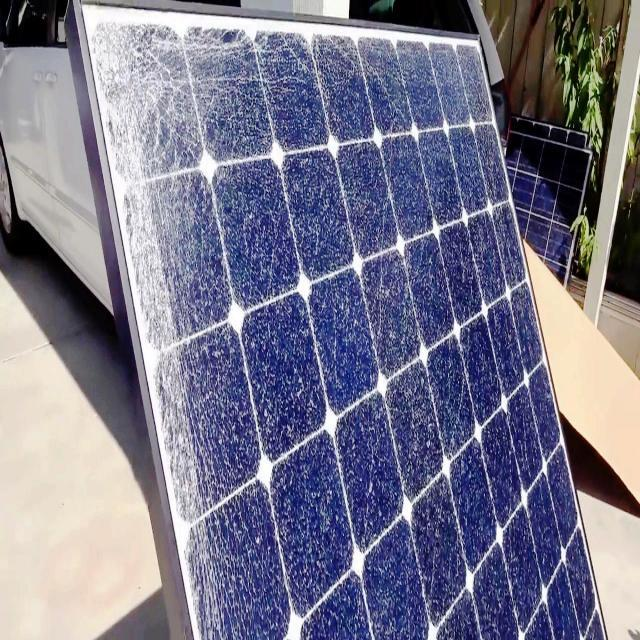faulty: (80, 5, 610, 639)
